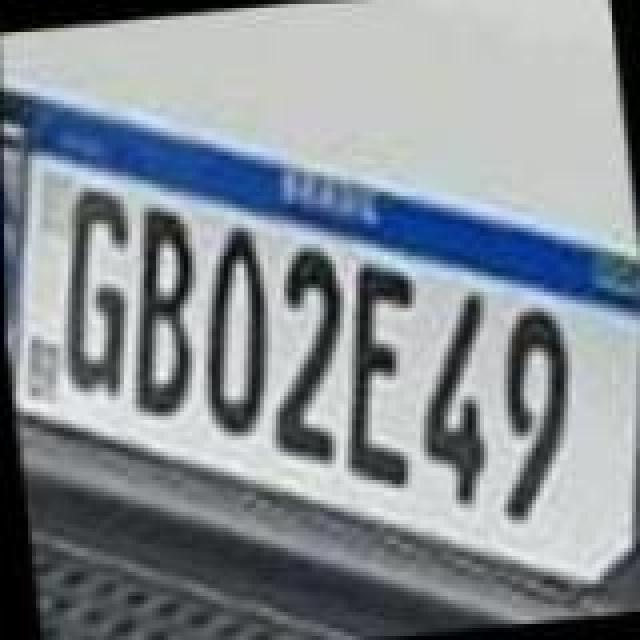2: (252, 242, 368, 470)
4: (400, 282, 508, 510)
9: (474, 300, 590, 524)
B: (110, 198, 218, 422)
E: (322, 254, 442, 494)
G: (44, 178, 152, 398)
O: (184, 216, 288, 440)
